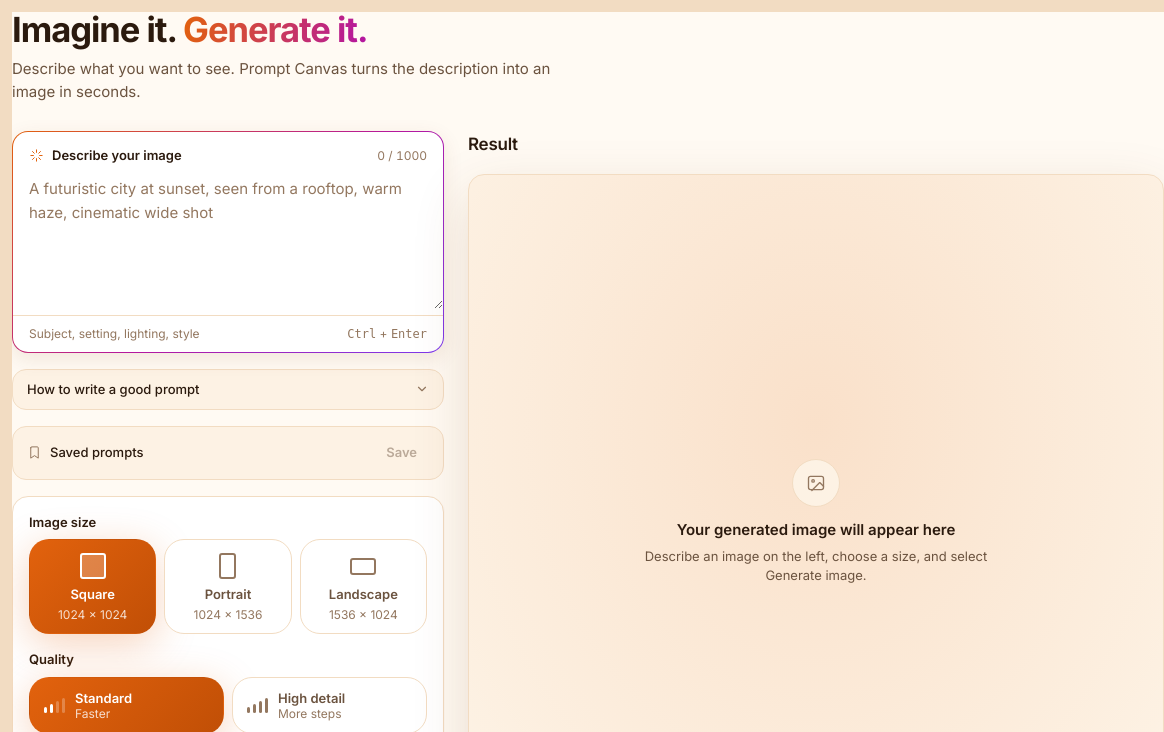
Test case: prompt validation › shows an error when a blurred prompt is empty
This screenshot has width=1164, height=732.
Click the text box labelled "Describe your image": (228, 237) x1=13 y1=165 x2=443 y2=309
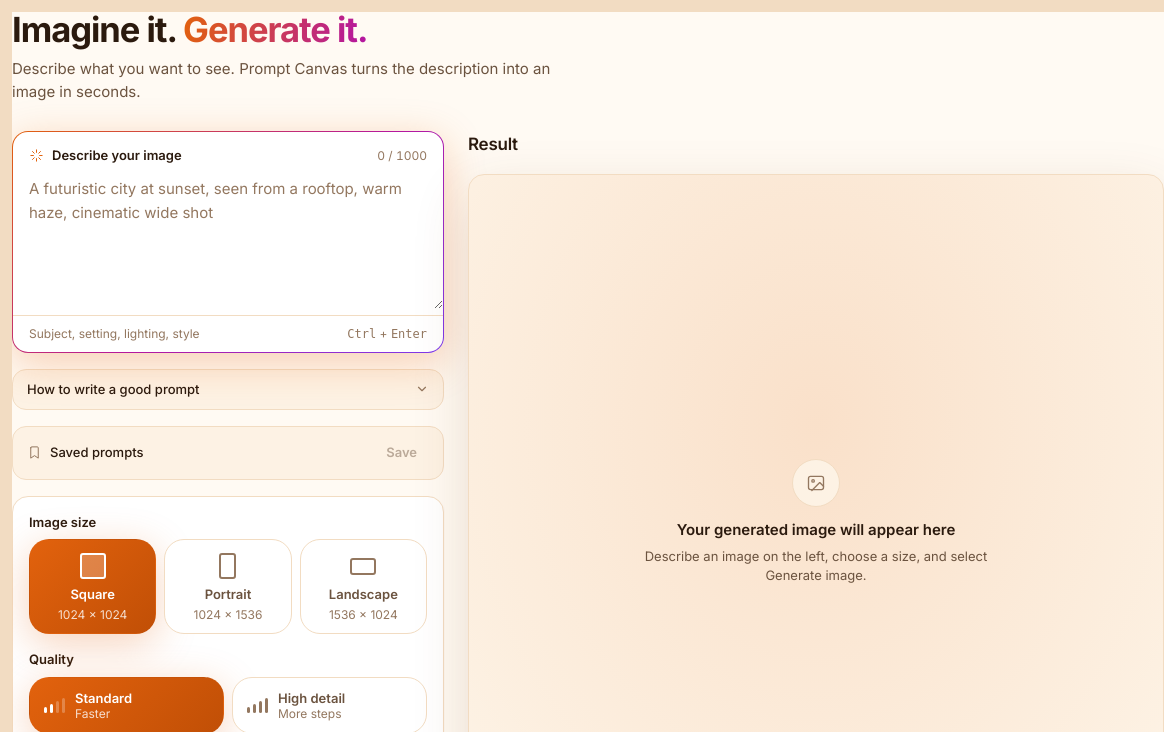
Press Tab
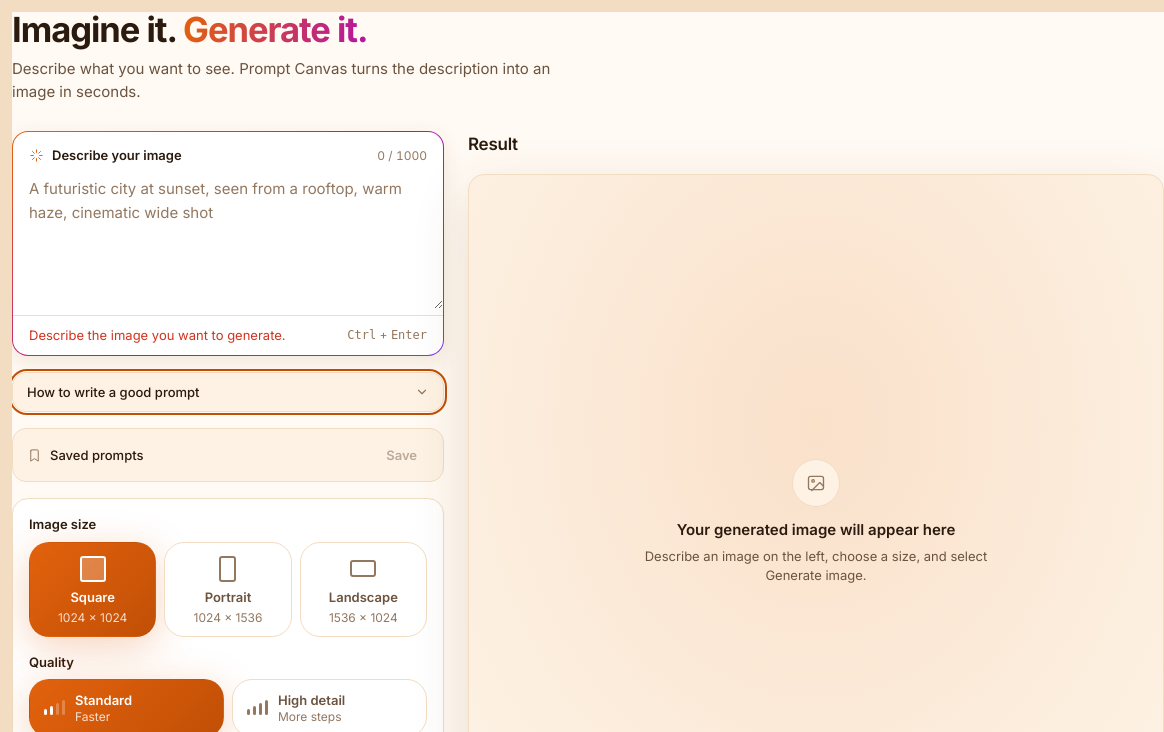
Expected: the message shows "Describe the image", x1=29 y1=327 x2=286 y2=343
